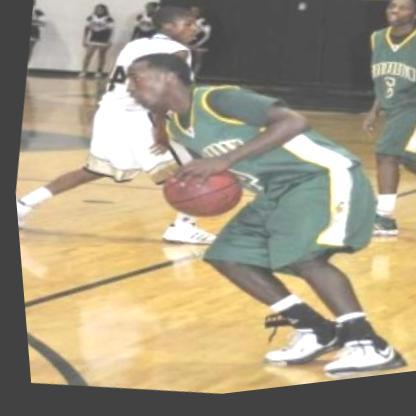basketball: (144, 153, 250, 240)
